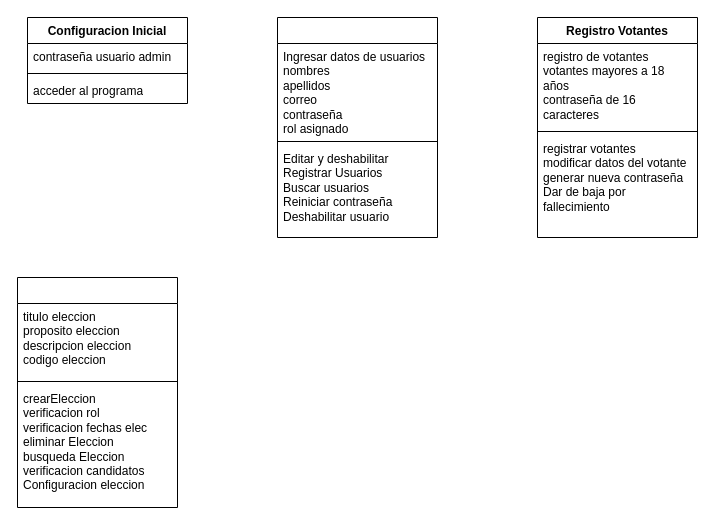
Image size: 715x528. Some labels were removed from this diagram. Here are the shapes that lost their labels. From the top down, the box of each, then its label:
(276, 16, 438, 238): Registro Usuarios
(16, 276, 178, 508): Admin d elecciones
